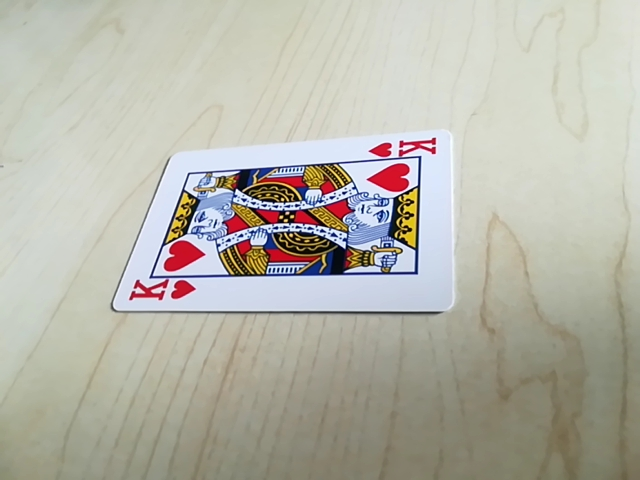hx k: (124, 277, 198, 307), (368, 135, 445, 161)
